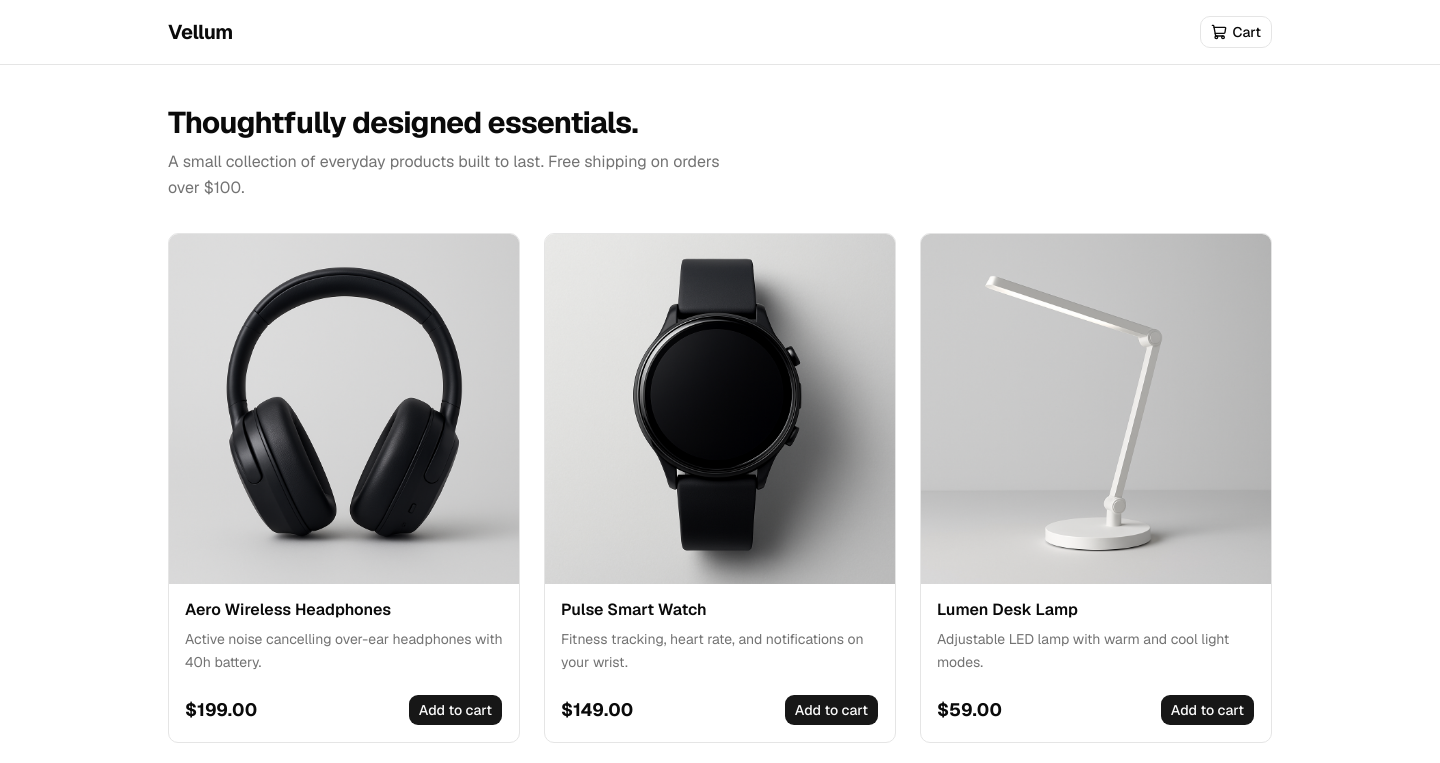
Store cart integration › adjusts quantity from within the cart panel
Click the button with aria-label "Add Aero Wireless Headphones to cart" at (455, 710), box [408,694,503,726]
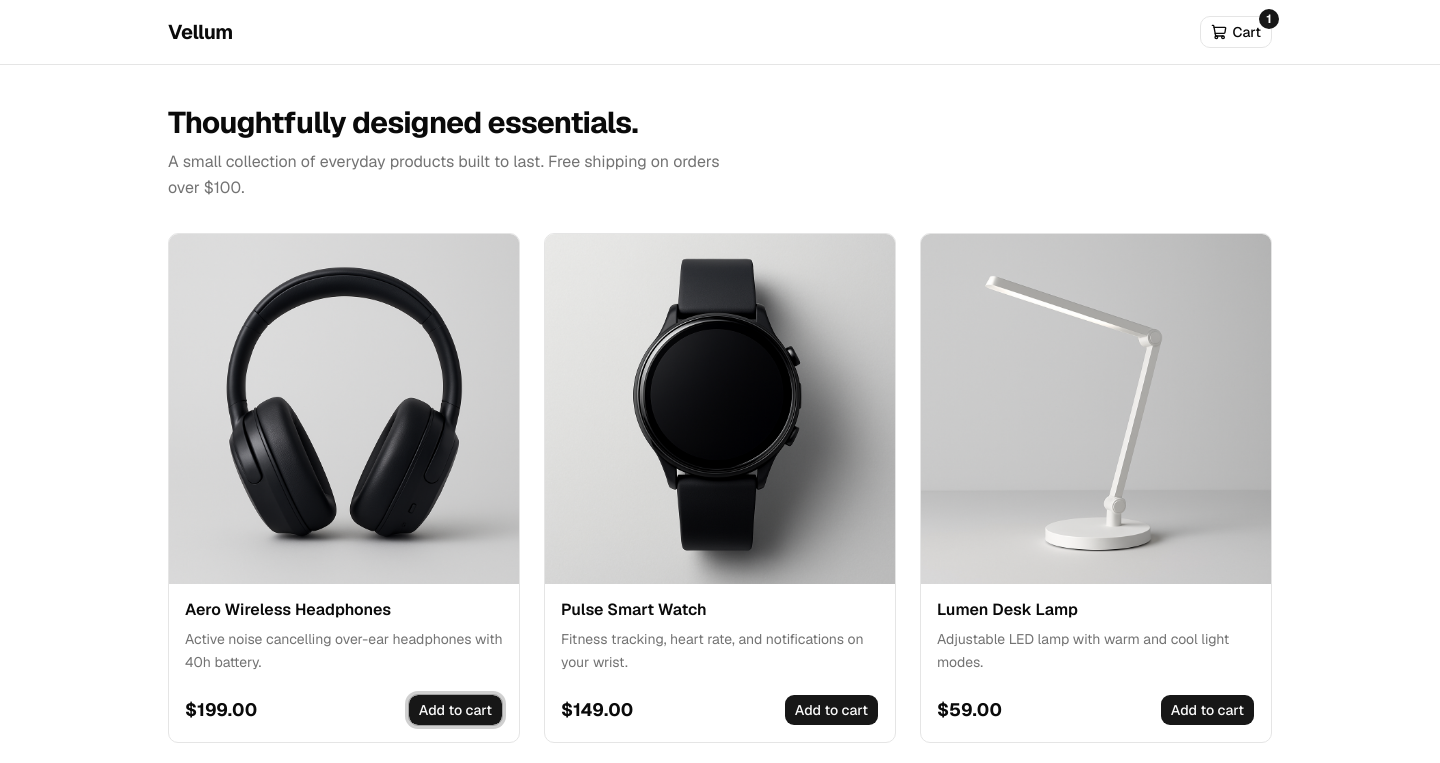
Click the button with aria-label "Open cart" at (1236, 32), box [1200,16,1272,48]
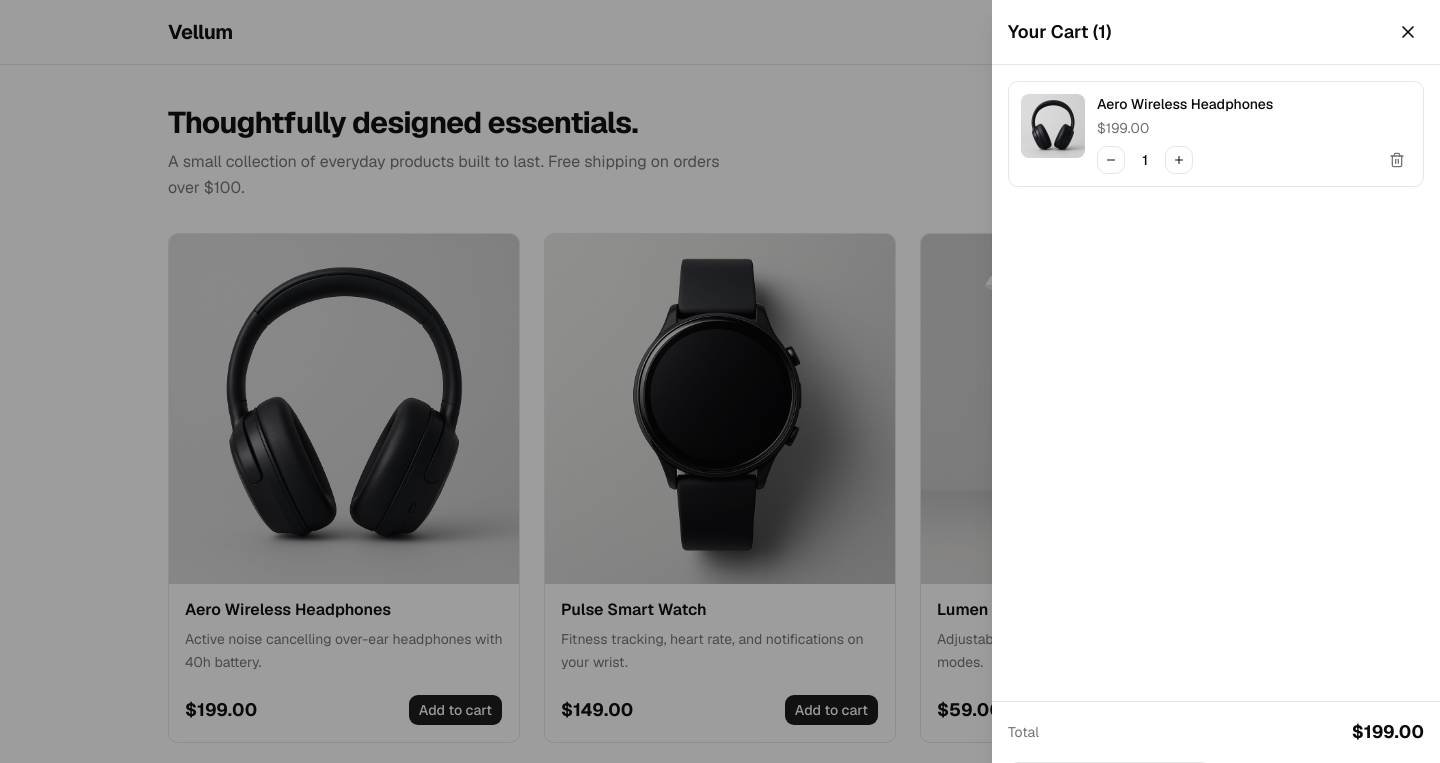
Click the button named "Increase Aero Wireless Headphones quantity" at (1179, 160), box [1165,146,1193,174]
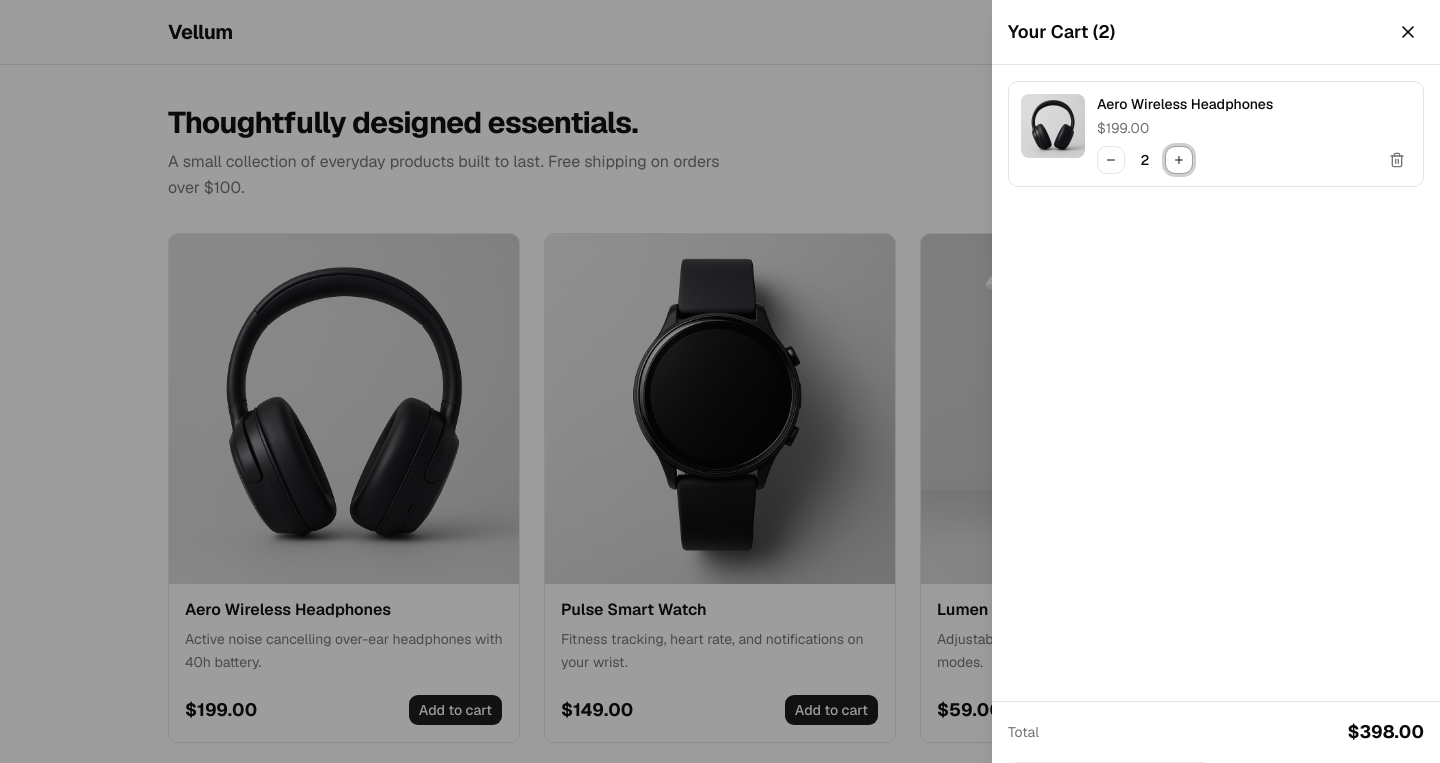
Click the button named "Decrease Aero Wireless Headphones quantity" at (1111, 160), box [1097,146,1125,174]
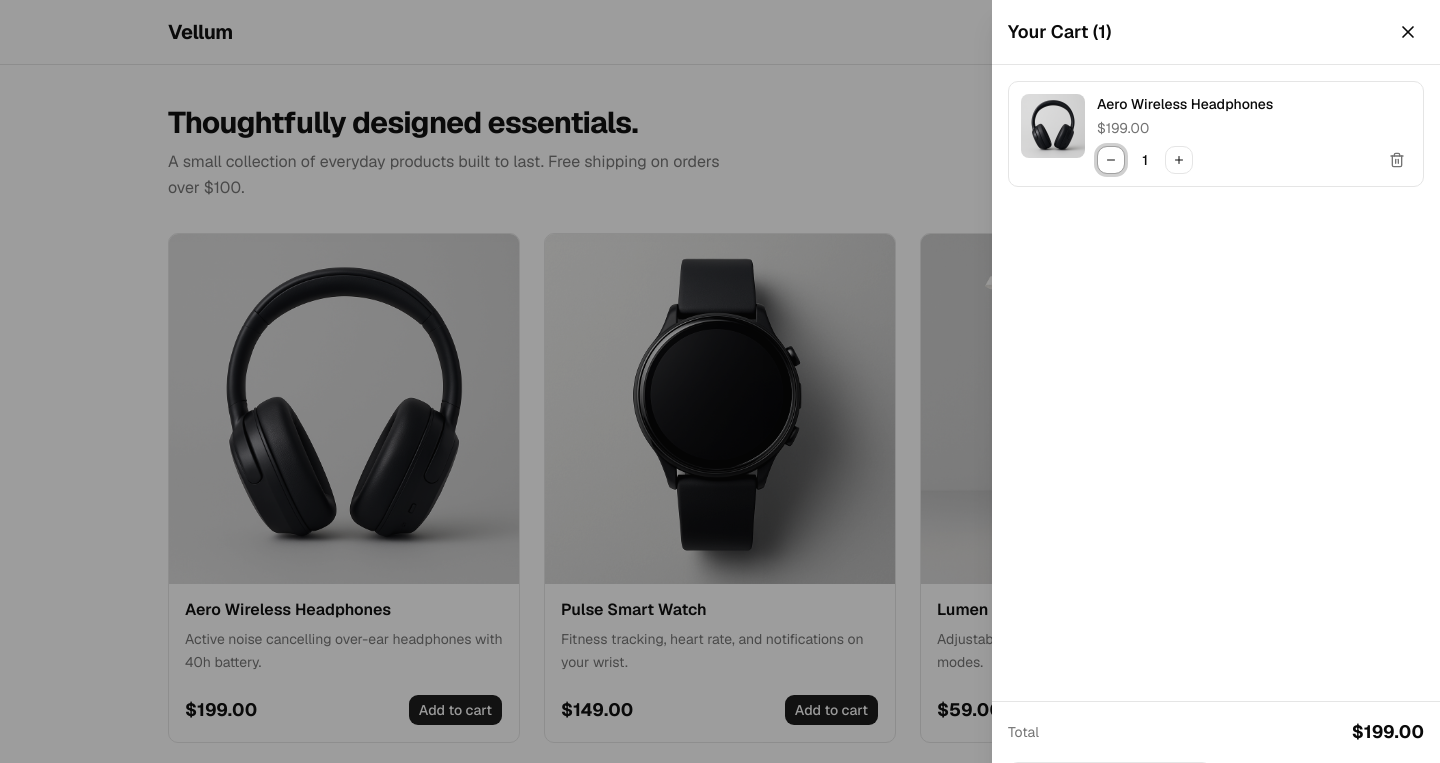
Click the button named "Decrease Aero Wireless Headphones quantity" at (1111, 160), box [1097,146,1125,174]
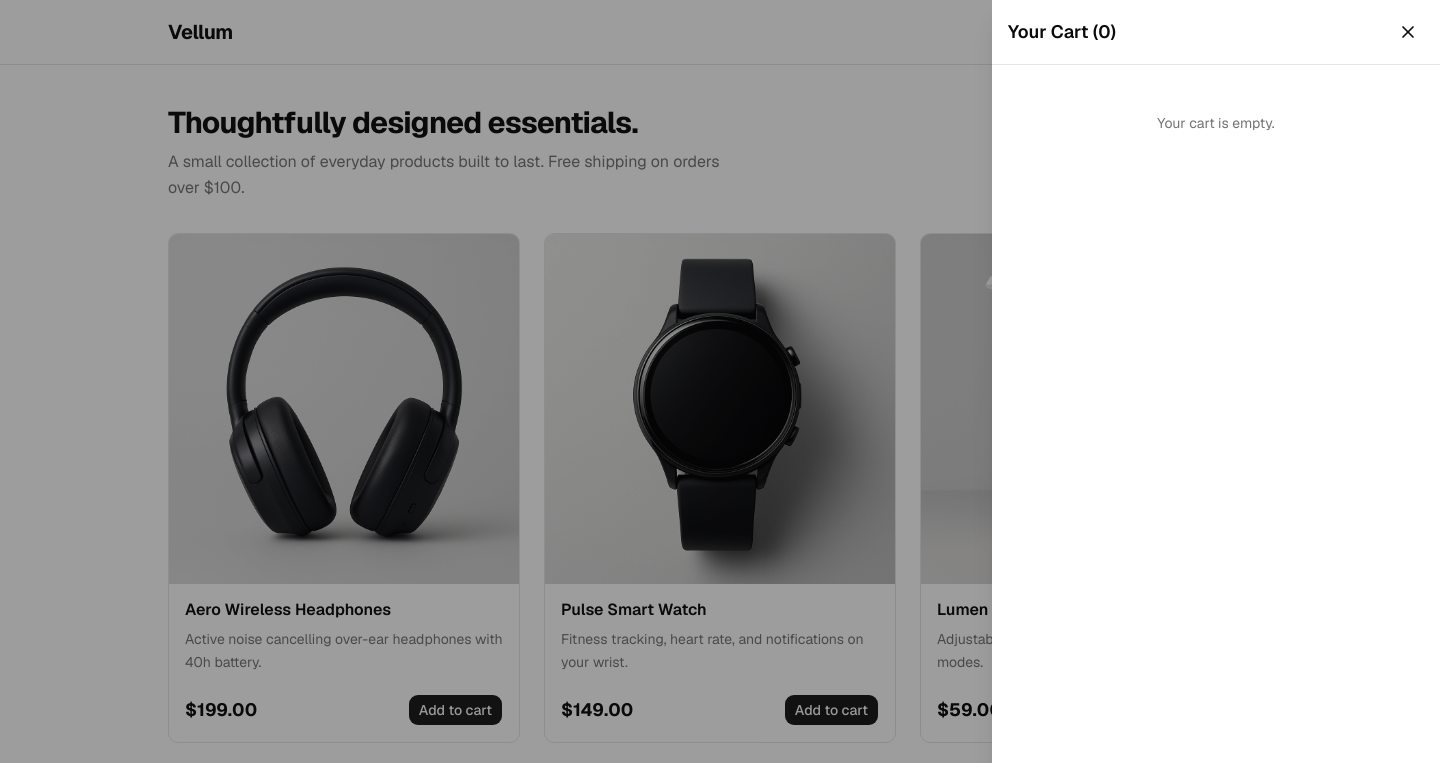
Result: the text "Your cart is empty." is shown at [1157,114,1275,132]
